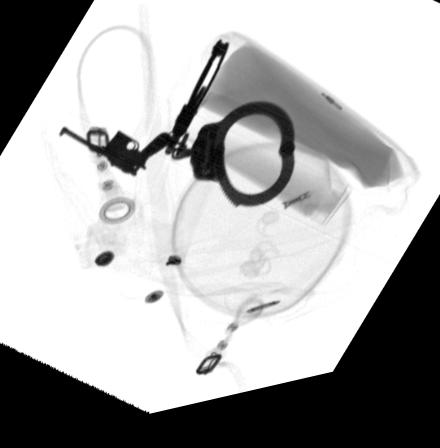Gun: (56, 129, 173, 184)
HandCuffs: (159, 46, 295, 219)
